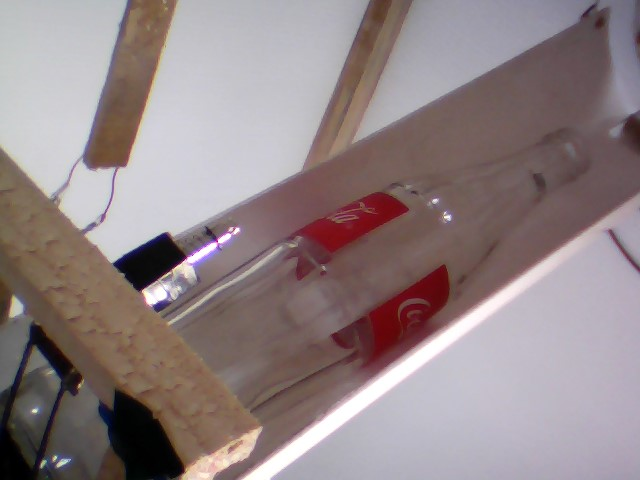vidrio: (178, 126, 602, 435)
